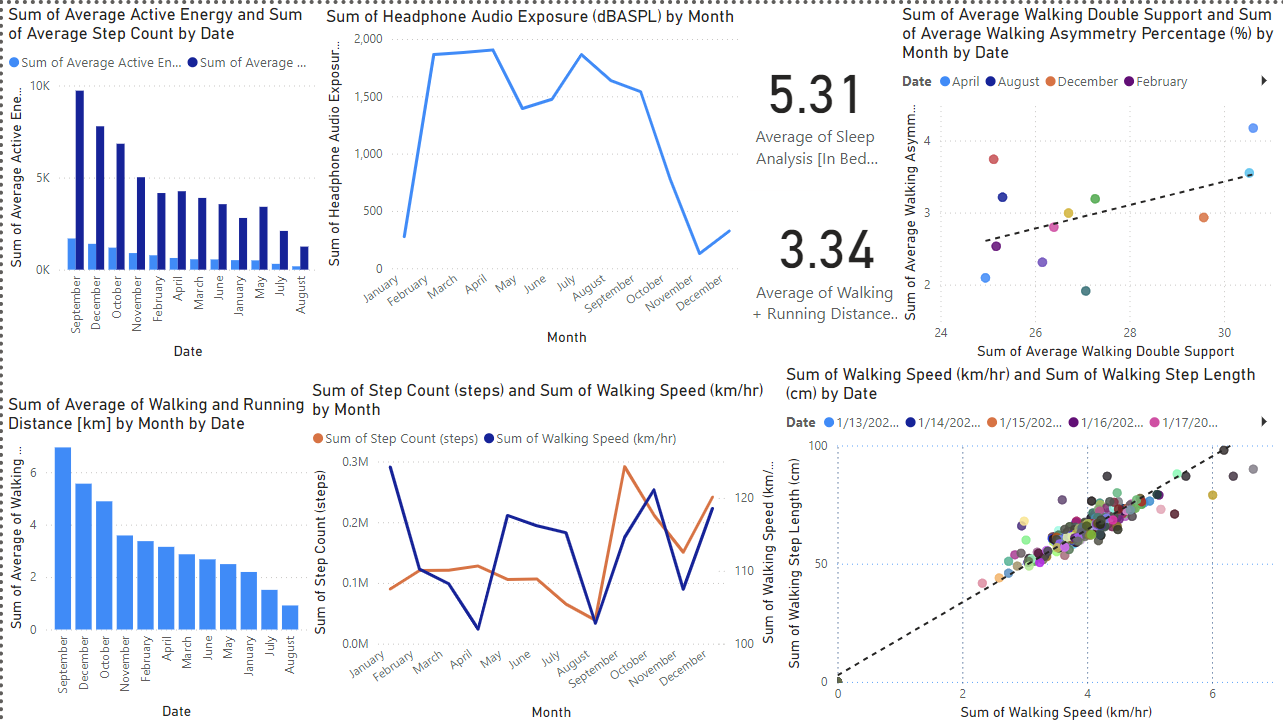

Layout of this report page (visuals, bound fields, positions):
{"tool":"powerbi","page":{"name":"Page 1","canvas":[1280,720],"ordinal":0},"visuals":[{"type":"scatterChart","fields":{"X":["Sum(HealthAutoExport-2024-01-13-2025-01-13 (2).Walking Speed (km/hr))"],"Y":["Sum(HealthAutoExport-2024-01-13-2025-01-13 (2).Walking Step Length (cm))"],"Series":["HealthAutoExport-2024-01-13-2025-01-13 (2).Date"]},"box":[755,360,528.8,361.2],"z":0},{"type":"card","fields":{"Values":["Avg(HealthAutoExport-2024-01-13-2025-01-13 (2).Walking + Running Distance (km))"]},"box":[744.4,165.6,133.3,178.9],"z":2000},{"type":"columnChart","fields":{"Y":["Avg(HealthAutoExport-2024-01-13-2025-01-13 (2).Active Energy (kJ))"],"Category":["HealthAutoExport-2024-01-13-2025-01-13 (2).Month"]},"box":[0,395.6,266.7,291.1],"z":3000},{"type":"card","fields":{"Values":["Avg(HealthAutoExport-2024-01-13-2025-01-13 (2).Sleep Analysis [In Bed] (hr))"]},"box":[741.1,0,140,186.7],"z":4000},{"type":"clusteredColumnChart","fields":{"Category":["HealthAutoExport-2024-01-13-2025-01-13 (2).Walking Step Length (cm) (bins)"],"Y":["Sum(HealthAutoExport-2024-01-13-2025-01-13 (2).Walking Speed (km/hr))"]},"box":[880,18.6,400,308.6],"z":4002},{"type":"lineChart","fields":{"Category":["HealthAutoExport-2024-01-13-2025-01-13 (2).Date.Variation.Date Hierarchy.Day"],"Y":["Sum(HealthAutoExport-2024-01-13-2025-01-13 (2).Step Count (steps))"],"Y2":["Sum(HealthAutoExport-2024-01-13-2025-01-13 (2).Walking Speed (km/hr))"]},"box":[281.2,376.2,473.8,345],"z":4003},{"type":"lineChart","fields":{"Y":["Sum(HealthAutoExport-2024-01-13-2025-01-13 (2).Headphone Audio Exposure (dBASPL))"],"Category":["HealthAutoExport-2024-01-13-2025-01-13 (2).Date.Variation.Date Hierarchy.Month"]},"box":[281,0,460,344],"z":4004},{"type":"barChart","fields":{"Category":["HealthAutoExport-2024-01-13-2025-01-13 (3).Date"],"Y":["Sum(HealthAutoExport-2024-01-13-2025-01-13 (3).Average of Walking and Running Distance [km] by Month)"]},"box":[11.4,0,270,380],"z":4005}]}

Visuals, with their boxes in screenshot pixels (x1, y1, x2, y2), scaled from the page's 1280x720 canvas onto the 1283x722 screenshot:
scatterChart - Sum(HealthAutoExport-2024-01-13-2025-01-13 (2).Walking Speed (km/hr)) x Sum(HealthAutoExport-2024-01-13-2025-01-13 (2).Walking Step Length (cm)): box(757, 361, 1282, 721)
card - Avg(HealthAutoExport-2024-01-13-2025-01-13 (2).Walking + Running Distance (km)): box(746, 166, 880, 345)
columnChart - Avg(HealthAutoExport-2024-01-13-2025-01-13 (2).Active Energy (kJ)) x HealthAutoExport-2024-01-13-2025-01-13 (2).Month: box(0, 397, 267, 689)
card - Avg(HealthAutoExport-2024-01-13-2025-01-13 (2).Sleep Analysis [In Bed] (hr)): box(743, 0, 883, 187)
clusteredColumnChart - HealthAutoExport-2024-01-13-2025-01-13 (2).Walking Step Length (cm) (bins) x Sum(HealthAutoExport-2024-01-13-2025-01-13 (2).Walking Speed (km/hr)): box(882, 19, 1282, 328)
lineChart - HealthAutoExport-2024-01-13-2025-01-13 (2).Date.Variation.Date Hierarchy.Day x Sum(HealthAutoExport-2024-01-13-2025-01-13 (2).Step Count (steps)): box(282, 377, 757, 721)
lineChart - Sum(HealthAutoExport-2024-01-13-2025-01-13 (2).Headphone Audio Exposure (dBASPL)) x HealthAutoExport-2024-01-13-2025-01-13 (2).Date.Variation.Date Hierarchy.Month: box(282, 0, 743, 345)
barChart - HealthAutoExport-2024-01-13-2025-01-13 (3).Date x Sum(HealthAutoExport-2024-01-13-2025-01-13 (3).Average of Walking and Running Distance [km] by Month): box(11, 0, 282, 381)
